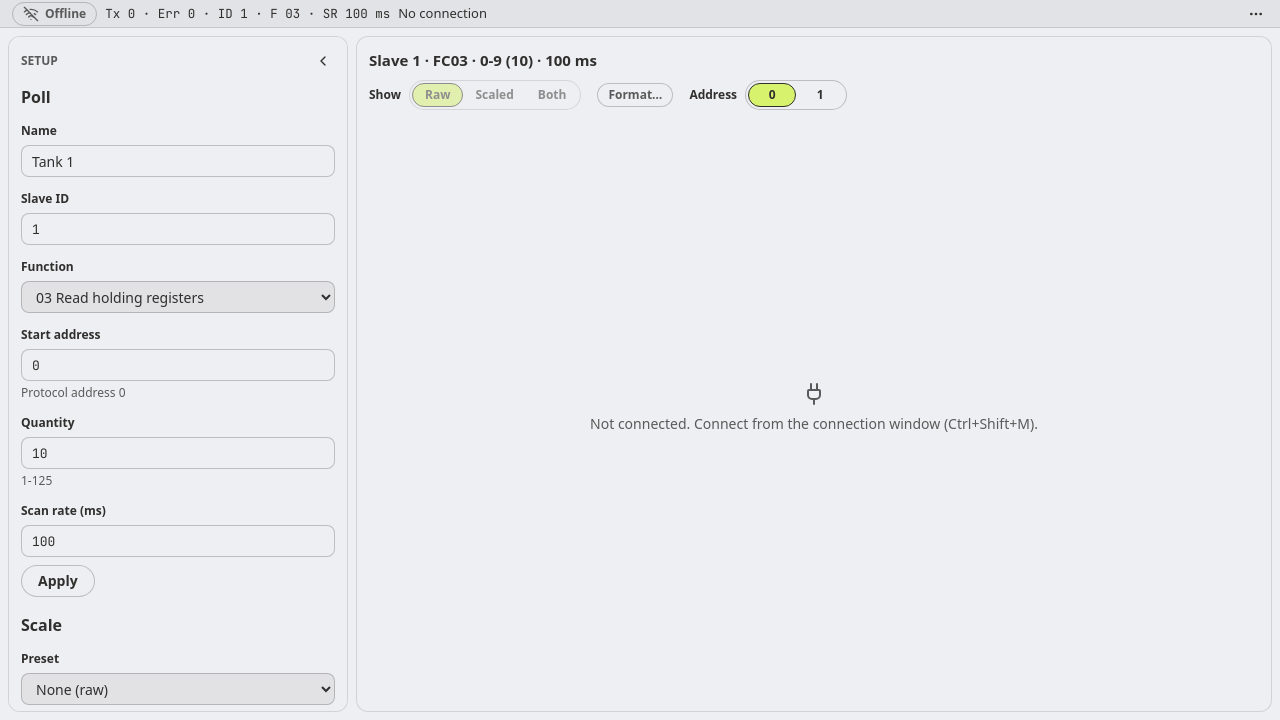
PollView in the native host › Show, format and base controls › the Format… button needs a selection or a focused row (Q-009-04)
The image size is (1280, 720).
Click the button "Format…" at (635, 94), box [597,82,673,106]
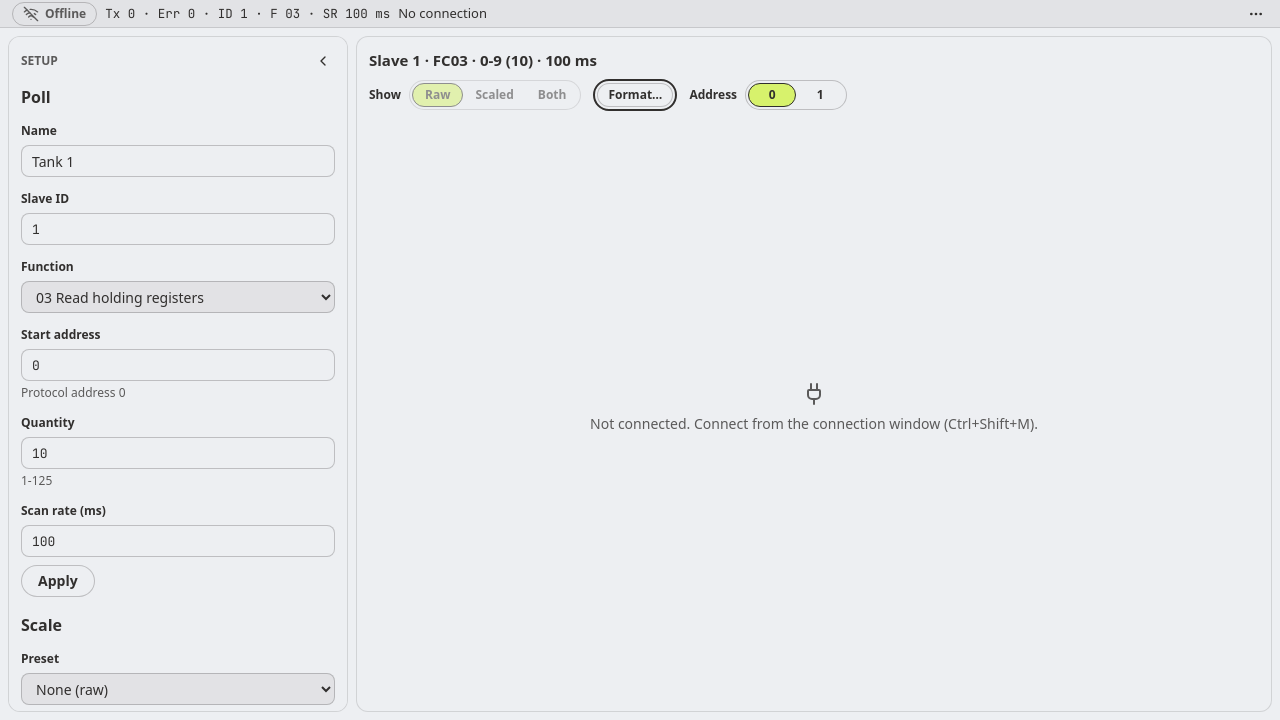
Expected: the dialog "Format / endian" is not shown
Expected: the button "Format…" does not have attribute aria-disabled
Expected: the button "Format…" has attribute title="Set the format of the selected rows. Ctrl+1 to Ctrl+4 set a 16-bit format directly."
Click the button "Format…" at (635, 94), box [597,82,673,106]
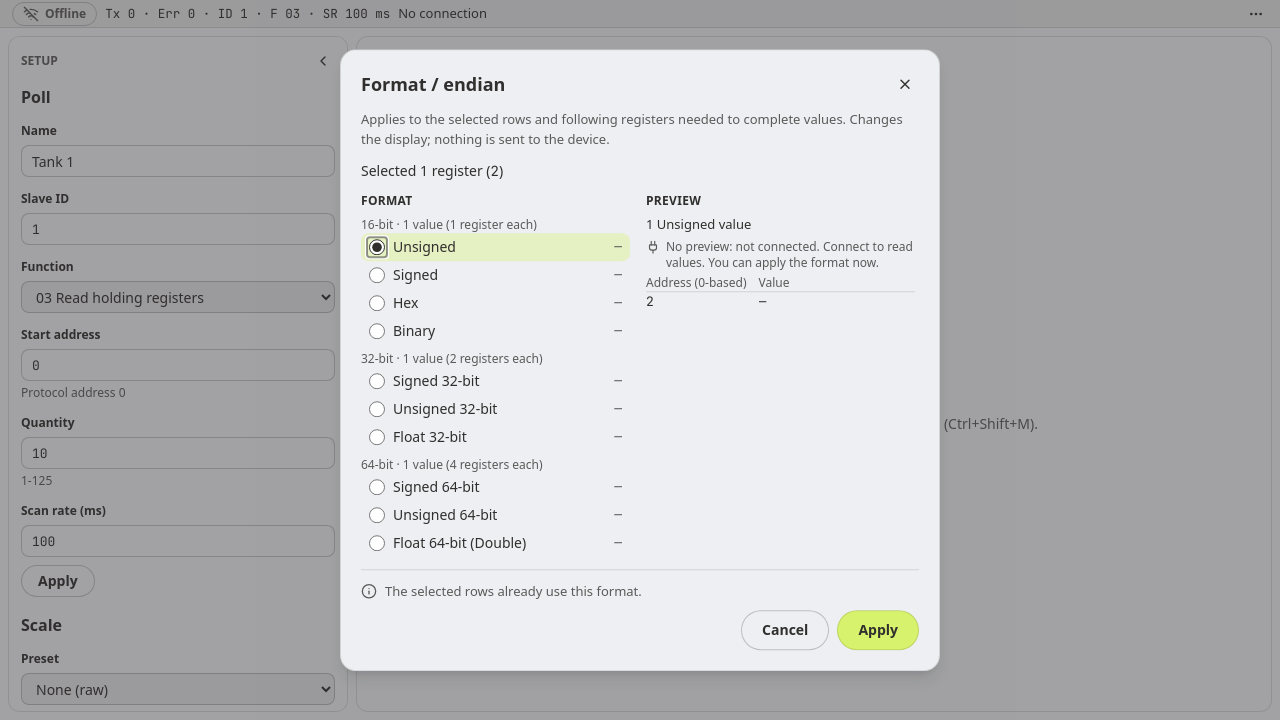
Expected: the dialog "Format / endian" is shown, [340,49,940,671]
